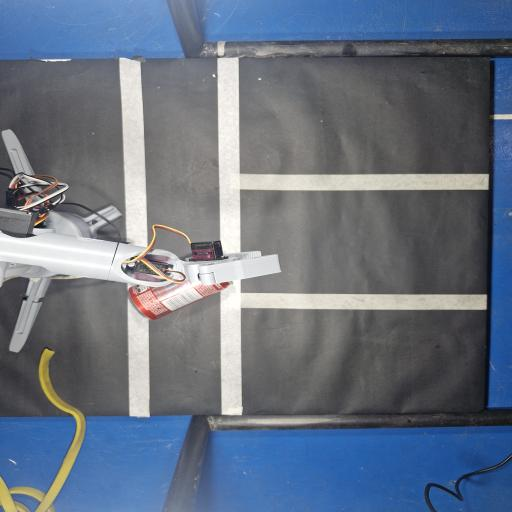lata: (129, 280, 233, 319)
